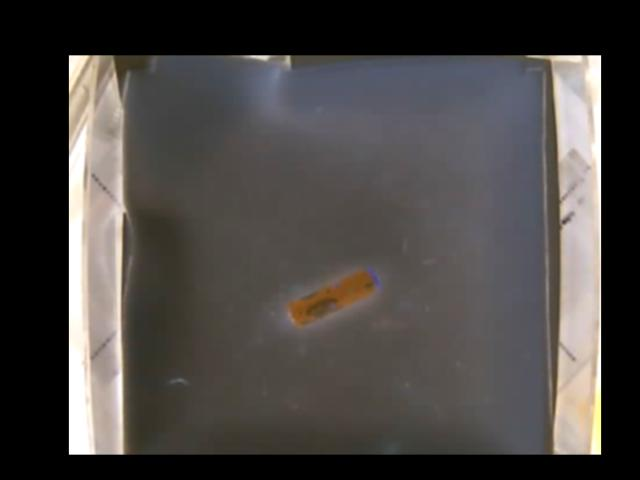Battery: (287, 268, 378, 327)
